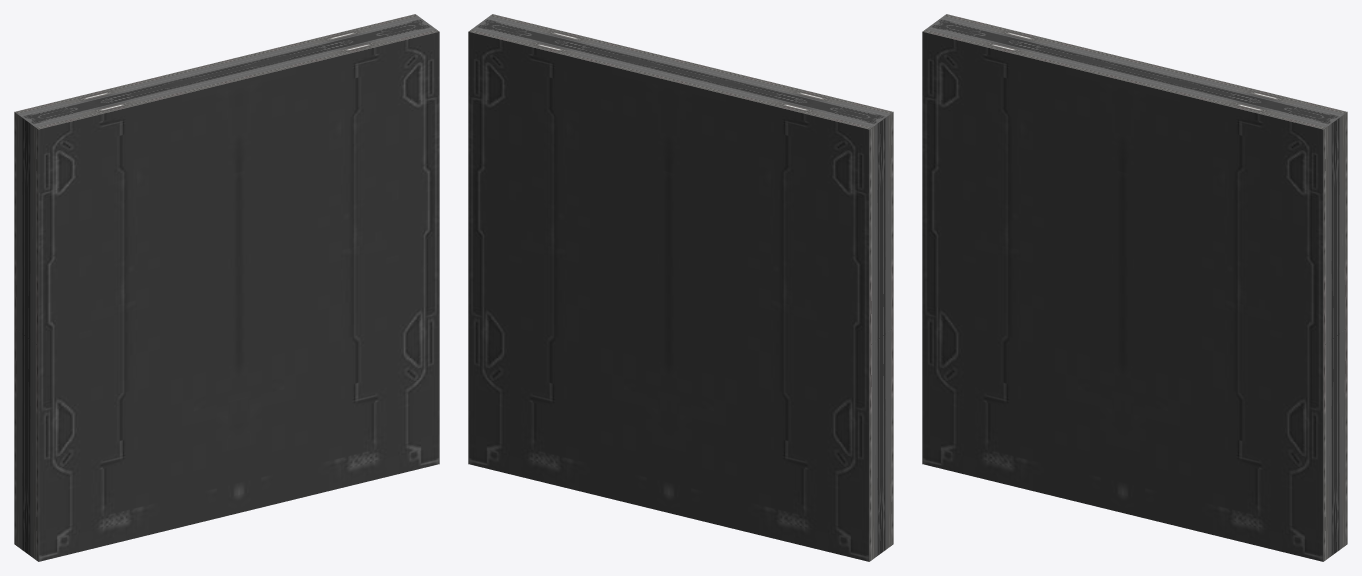
Rendered from sf_doorway_blocked.glb.
The picture shows the model from 3 angles, left to right: view 1: azimuth 30°, elevation 25°; view 2: azimuth 150°, elevation 25°; view 3: azimuth 330°, elevation 25°; orthographic projection.
Visible parts, largest first — view 1: Door_Frame_Square_Blocked; view 2: Door_Frame_Square_Blocked; view 3: Door_Frame_Square_Blocked.
Boxes of the visible parts, bbox=[...] form: Door_Frame_Square_Blocked: bbox=[14, 14, 439, 561]; Door_Frame_Square_Blocked: bbox=[468, 14, 893, 561]; Door_Frame_Square_Blocked: bbox=[922, 14, 1347, 561].
Size of the model in its own units: 4.85 by 5 by 0.5068.
1 material, 1 textured.
